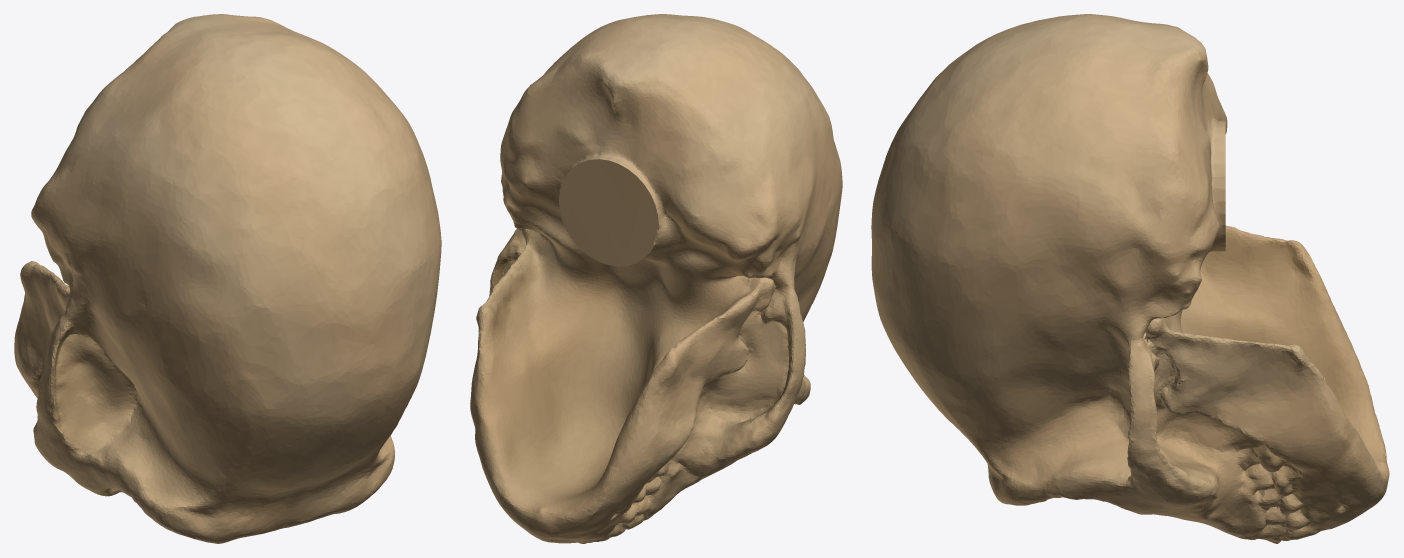
Rendered from naledi.glb.
3 views of the same model, side by side, from view 1: azimuth 30°, elevation 25°; view 2: azimuth 150°, elevation 25°; view 3: azimuth 270°, elevation 25° (orthographic). The views are drawn at different scales.
Bounding box in the file's own units: 29.15 × 40.76 × 37.62.
